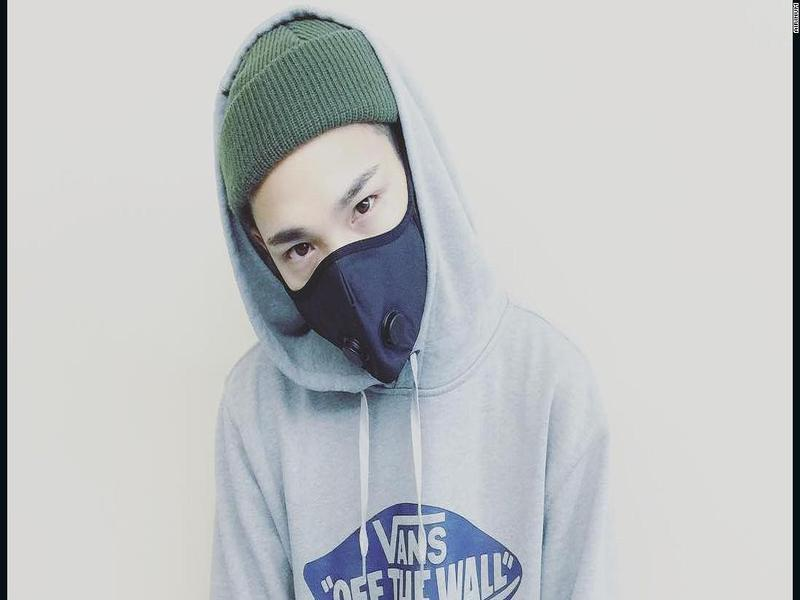with_mask: (256, 123, 433, 382)
